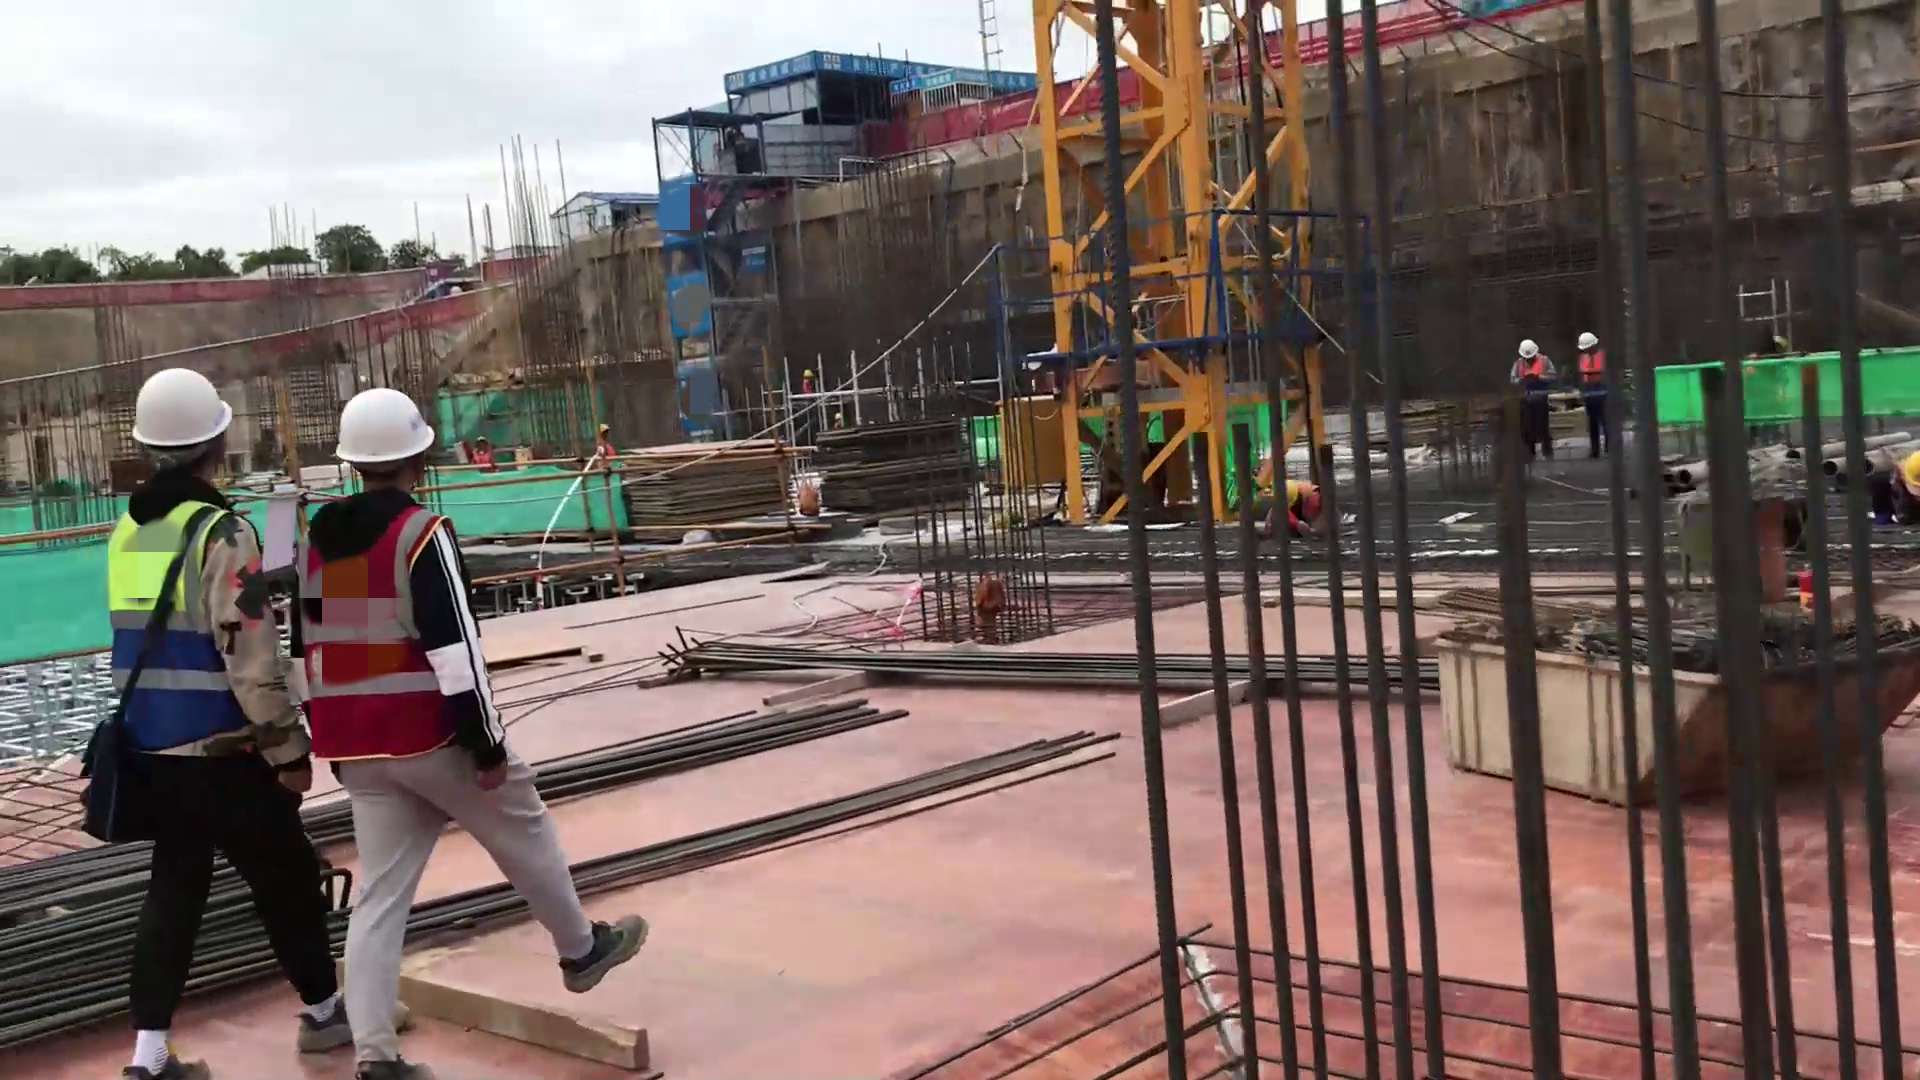board: (627, 438, 791, 522)
ebox: (994, 393, 1067, 520)
helmet: (333, 385, 437, 468), (131, 364, 234, 446), (1905, 451, 1920, 484), (1577, 331, 1598, 351), (1518, 339, 1538, 358), (1287, 479, 1299, 508)
hopper: (1415, 572, 1920, 817)
person: (288, 385, 660, 1080), (85, 364, 356, 1080), (1508, 338, 1559, 461), (1572, 329, 1609, 462), (1267, 478, 1326, 540), (1873, 449, 1920, 524)
rebar: (580, 734, 1107, 896), (694, 638, 1427, 695), (540, 702, 899, 803), (1, 841, 148, 1025)
vest: (295, 494, 453, 765), (107, 499, 241, 760), (1579, 351, 1607, 406), (1516, 356, 1547, 402)
